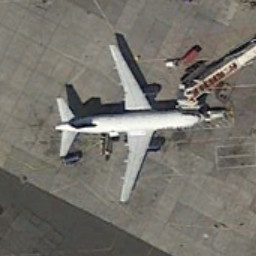Airplane: (52, 39, 210, 206)
